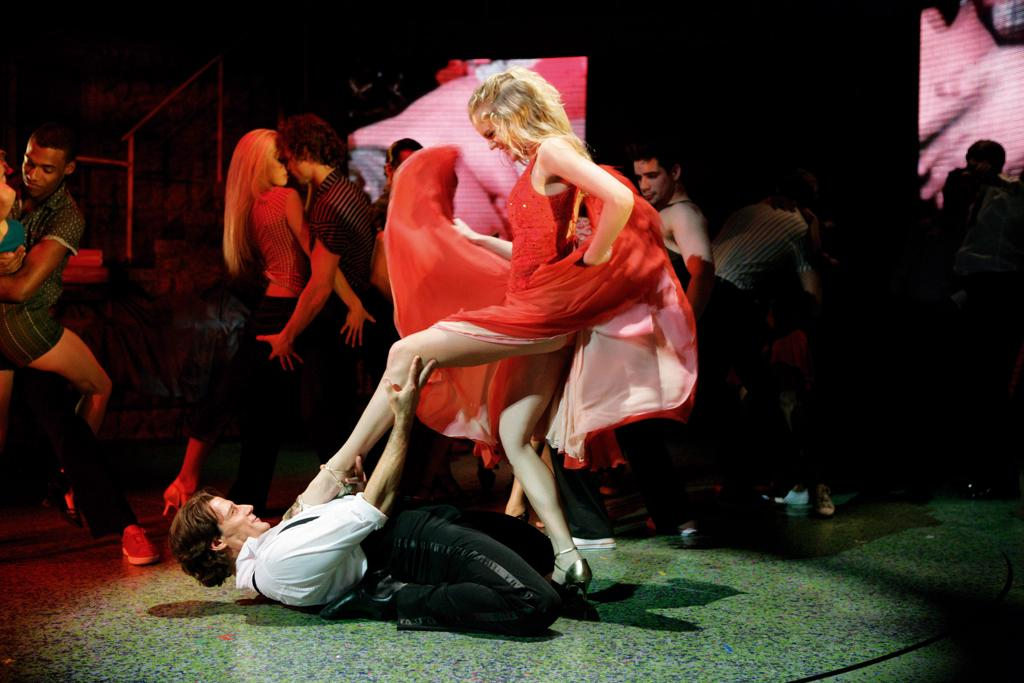face: (202, 495, 269, 538), (477, 107, 527, 159), (21, 145, 65, 198), (634, 160, 669, 207), (283, 139, 309, 184), (268, 142, 289, 186)
